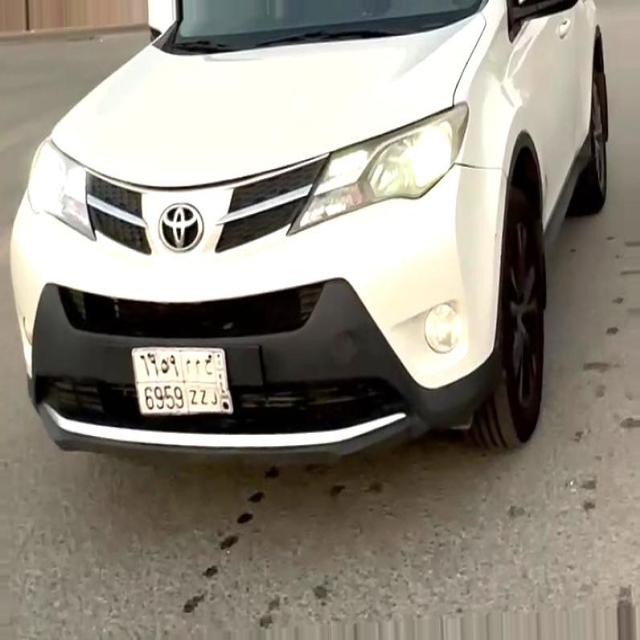Car-plate: (125, 340, 238, 433)
